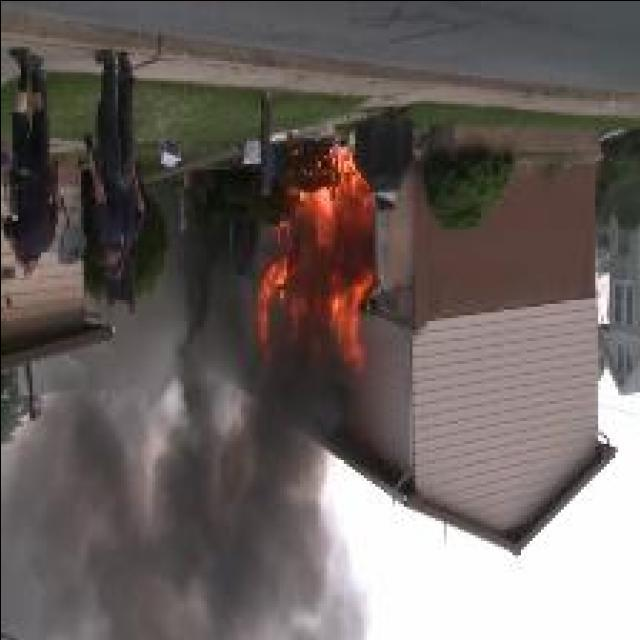Fire: (251, 137, 380, 366)
